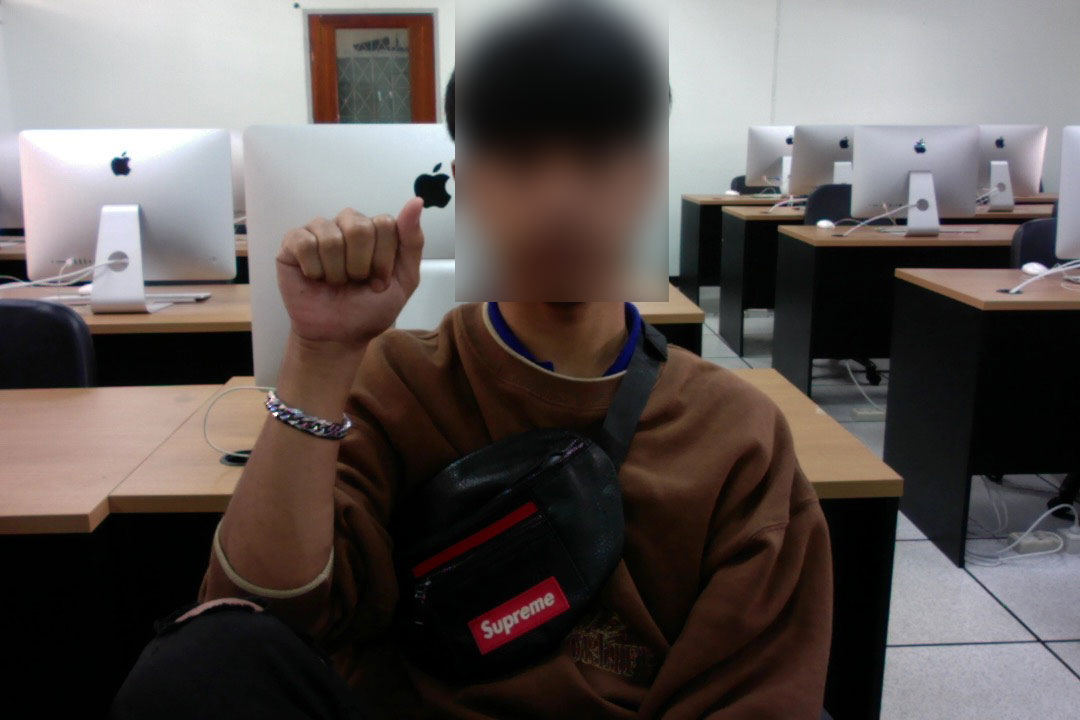or: (263, 187, 433, 370)
